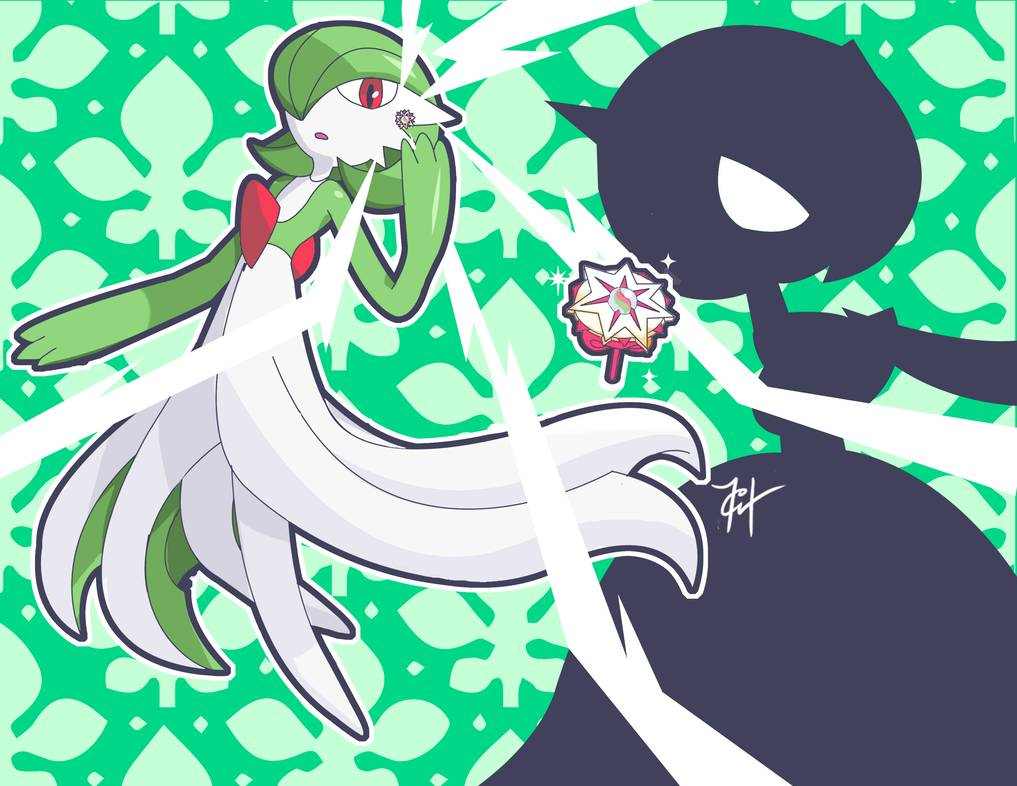gardevoir: (11, 14, 707, 728)
